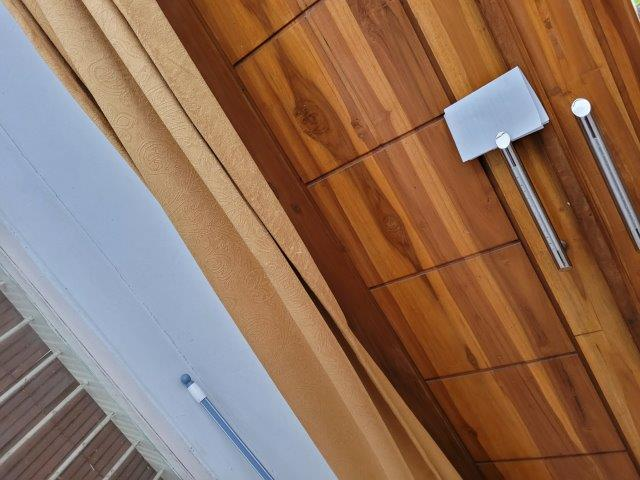kertas: (442, 65, 550, 163)
